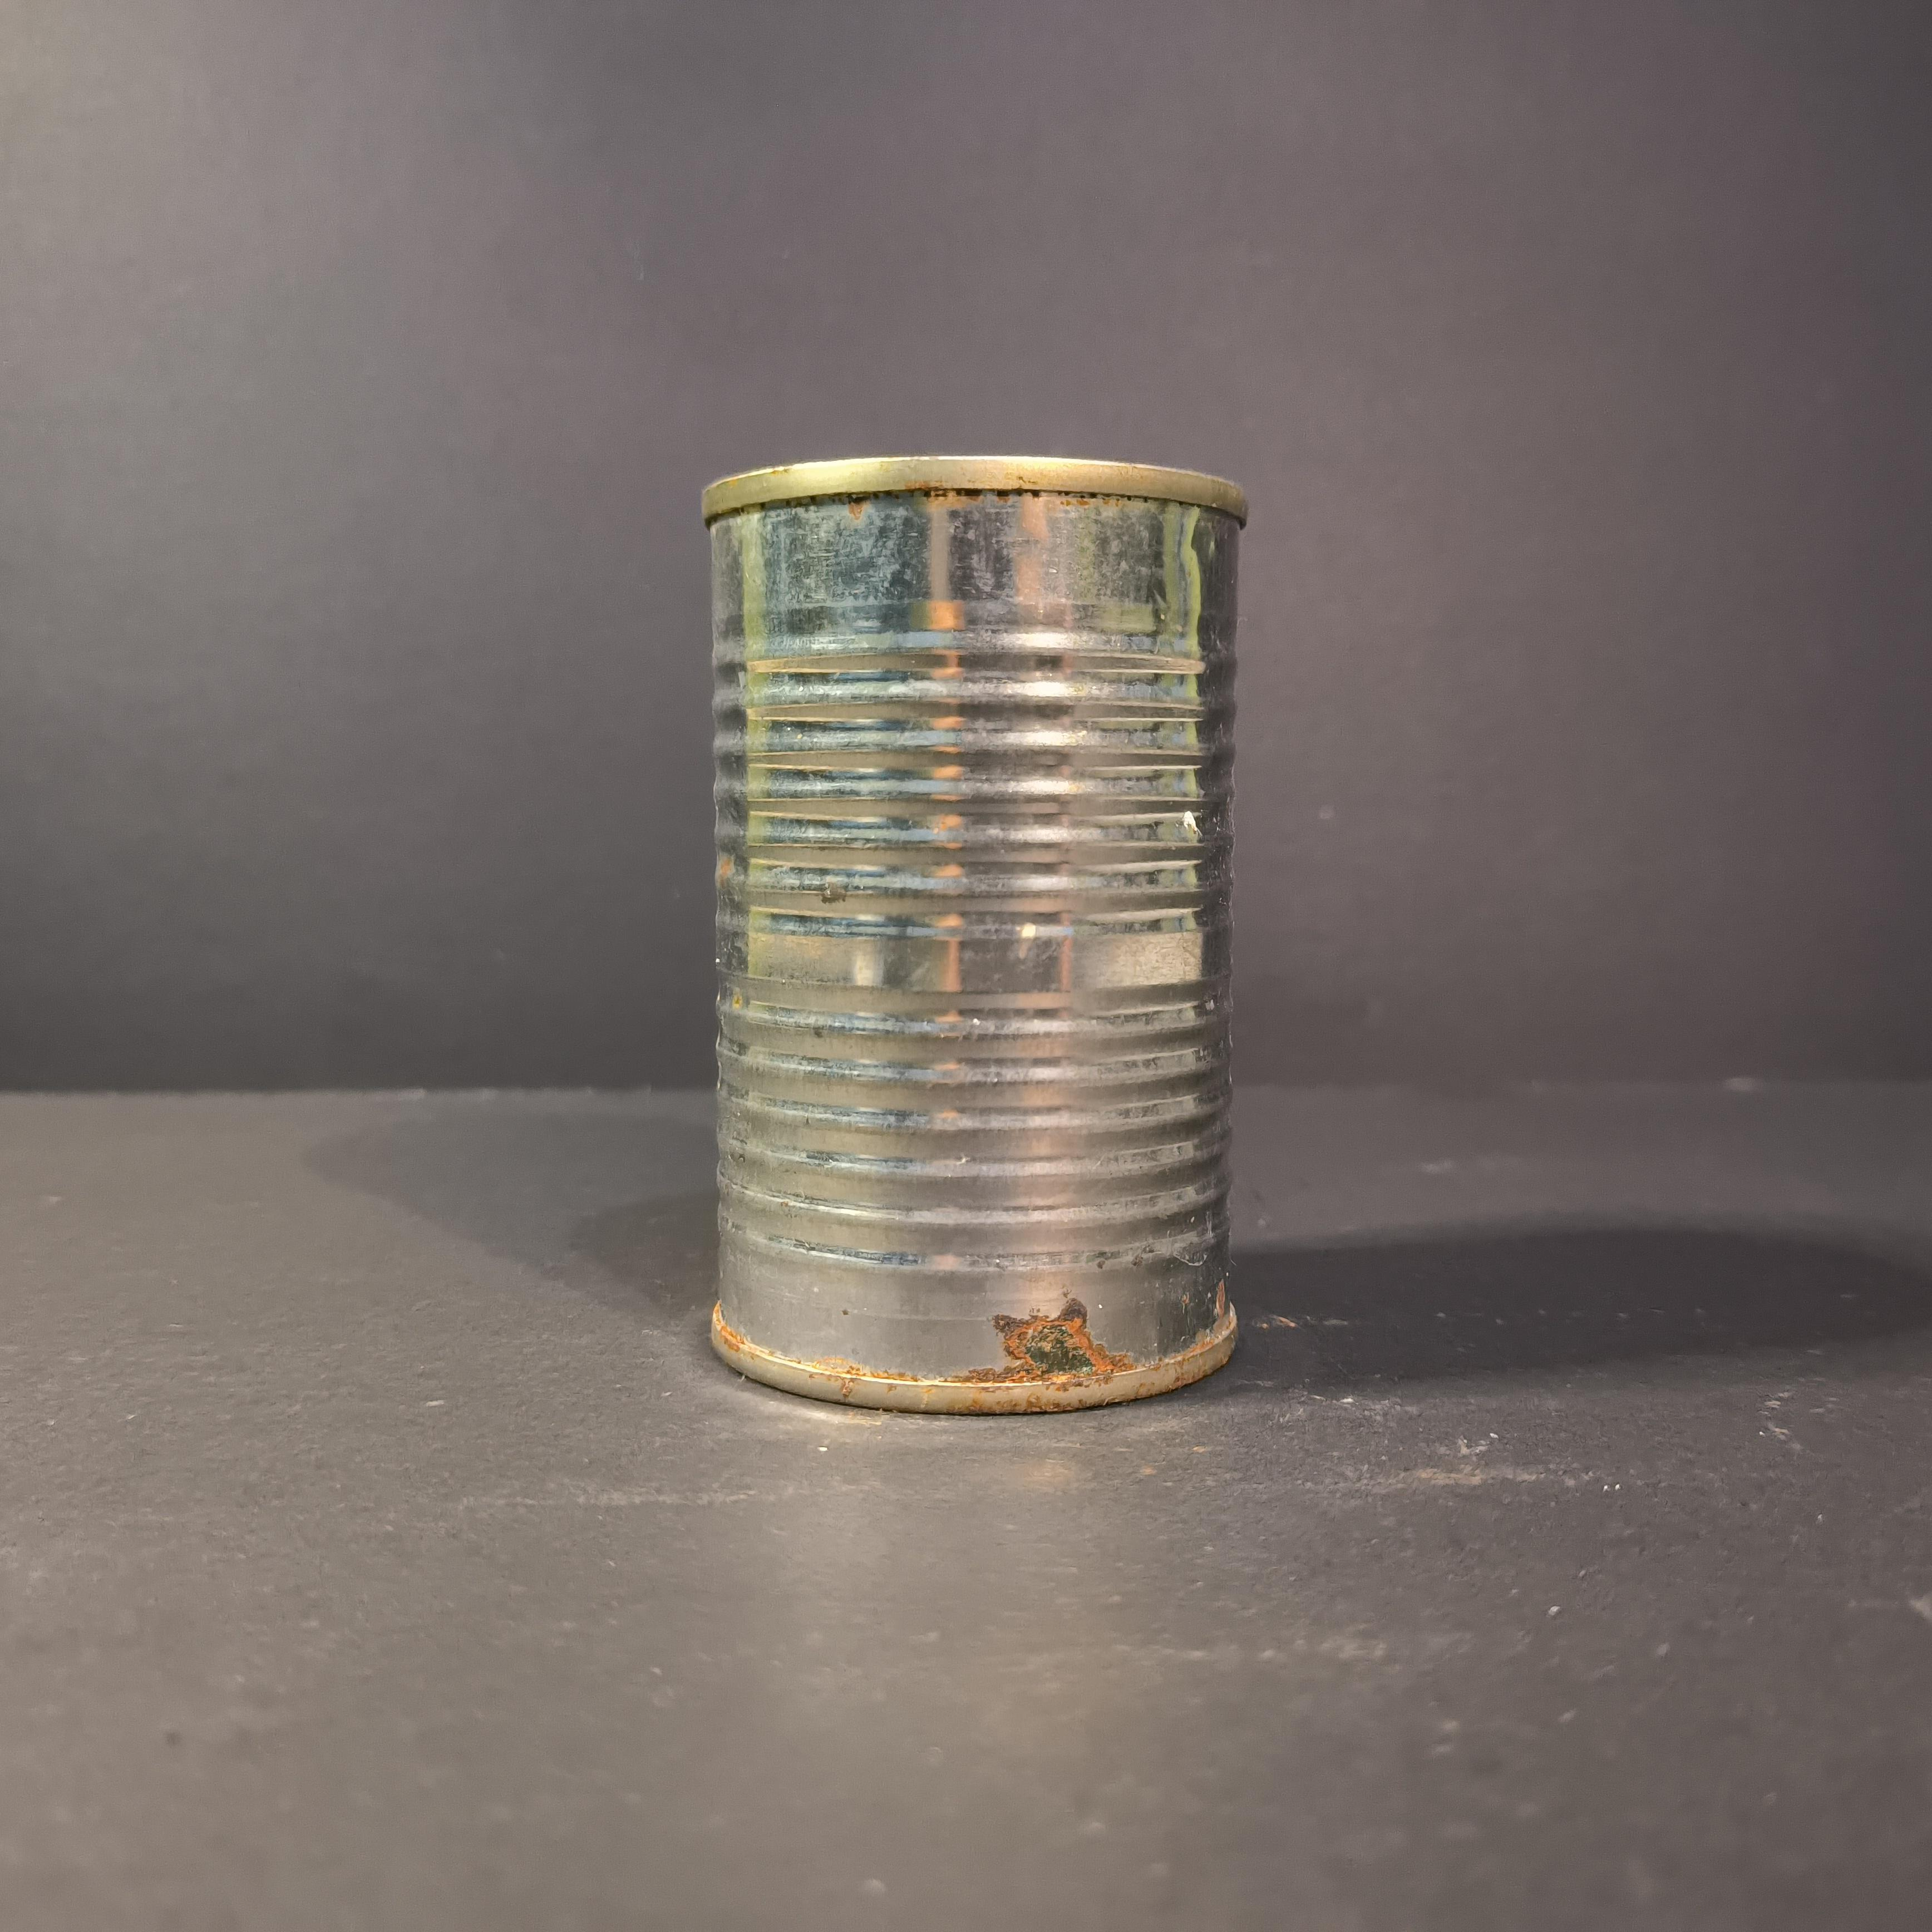Rusted: (681, 423, 1267, 1430)
